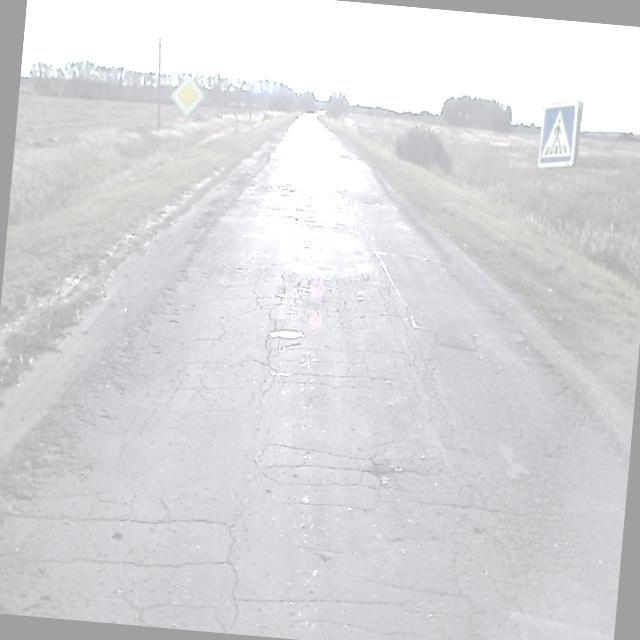road: (0, 114, 628, 640)
